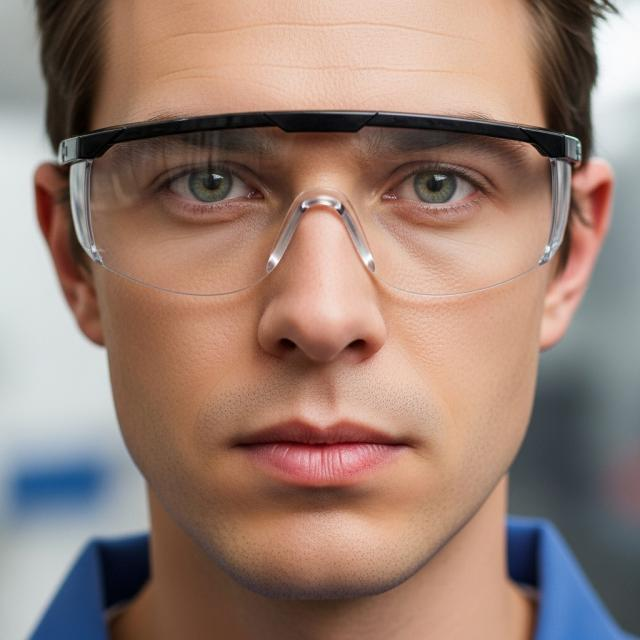oculos-epi: (59, 111, 579, 296)
